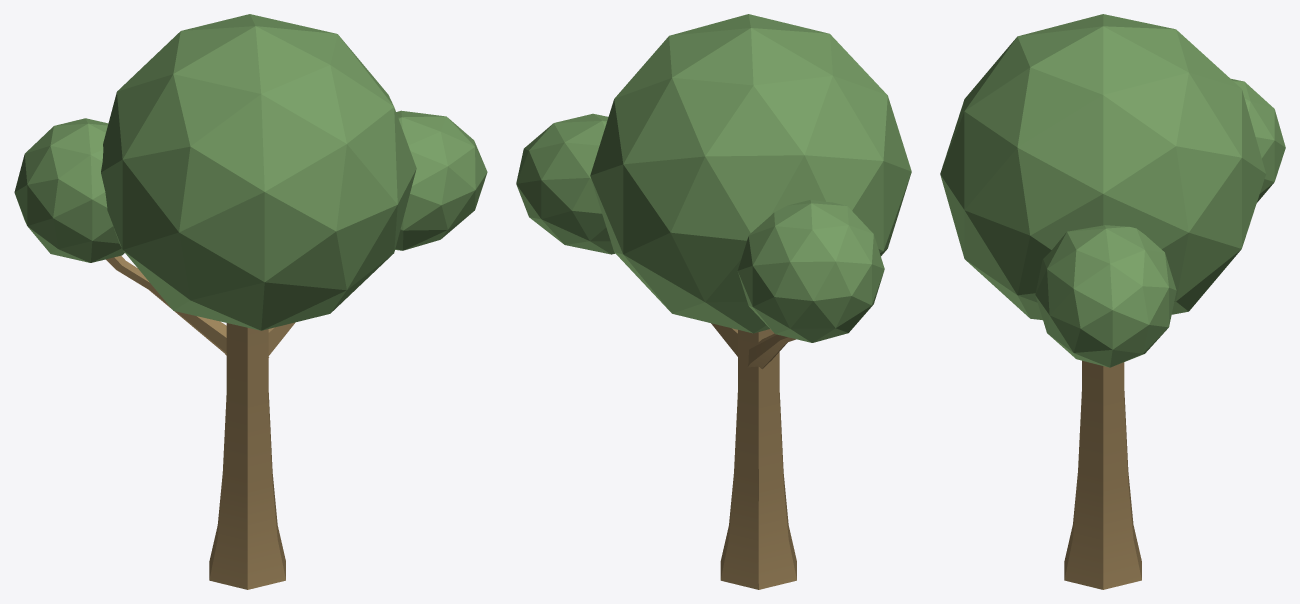
File: tree22.fbx
3 views of the same model, side by side, from view 1: azimuth 30°, elevation 25°; view 2: azimuth 150°, elevation 25°; view 3: azimuth 270°, elevation 25° (orthographic).
Visible parts, largest first — view 1: Tree1:pasted__pCylinder1; view 2: Tree1:pasted__pCylinder1; view 3: Tree1:pasted__pCylinder1.
Boxes of the visible parts, left/top/right/bottom form: Tree1:pasted__pCylinder1: left=14, top=14, right=487, bottom=589; Tree1:pasted__pCylinder1: left=516, top=14, right=911, bottom=589; Tree1:pasted__pCylinder1: left=940, top=14, right=1285, bottom=589.
Size of the model in its own units: 2.67 by 3.49 by 1.99.
